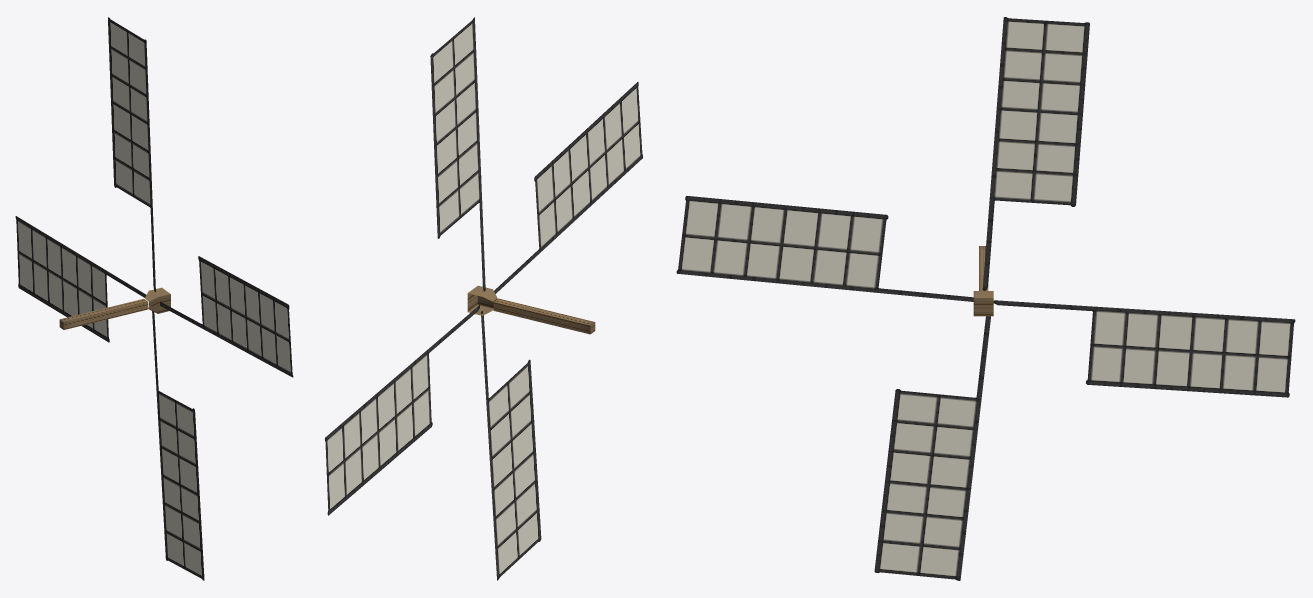
File: windmill_turbine.fbx
3 views of the same model, side by side, from view 1: azimuth 30°, elevation 25°; view 2: azimuth 150°, elevation 25°; view 3: azimuth 270°, elevation 25° (orthographic). The views are drawn at different scales.
Parts seen in each view (by area): view 1: windmill_turbine; view 2: windmill_turbine; view 3: windmill_turbine.
Part boxes in pixels (x1,y1,x2,y2): windmill_turbine: (15,17,293,580); windmill_turbine: (325,17,642,580); windmill_turbine: (676,17,1295,580).
Bounding box in the file's own units: 32.88 × 153 × 152.
